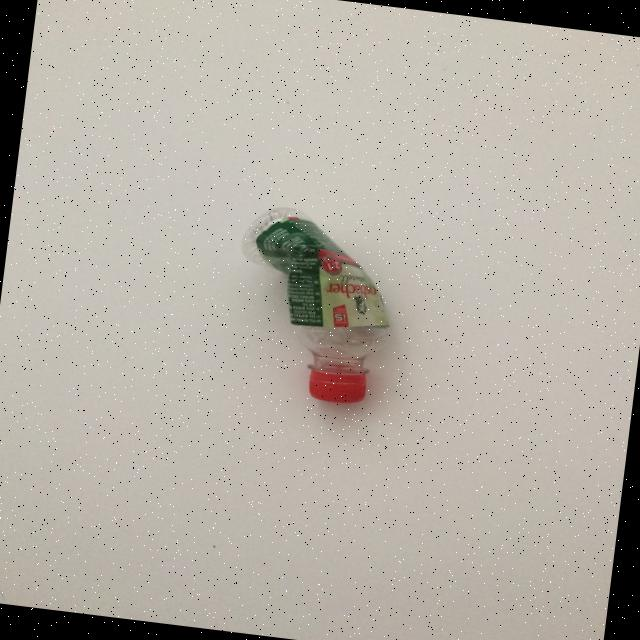plastic: (222, 200, 405, 408)
